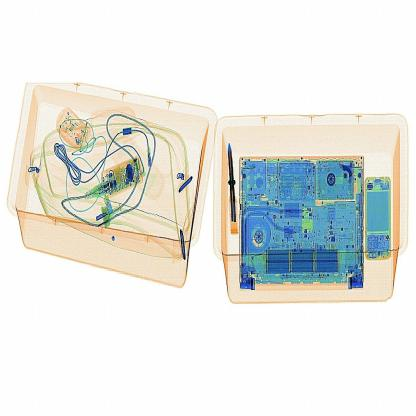gun: (220, 126, 248, 244)
